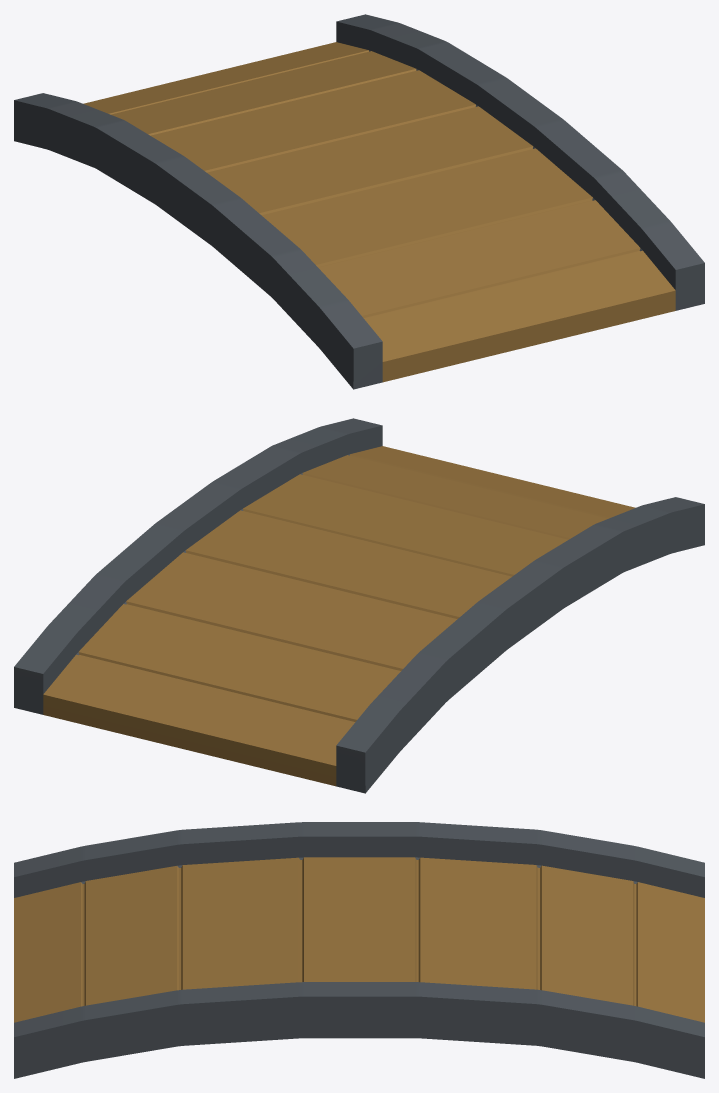
Rendered from Bridge_Curved.fbx.
3 renders of one model, top to bottom at view 1: azimuth 30°, elevation 25°; view 2: azimuth 150°, elevation 25°; view 3: azimuth 270°, elevation 25°, orthographic.
Parts seen in each view (by area): view 1: pCube1; view 2: pCube1; view 3: pCube1.
Boxes of the visible parts, <box> form: pCube1: <box>14,14,704,389</box>; pCube1: <box>14,418,704,793</box>; pCube1: <box>14,822,704,1078</box>.
Bounding box in the file's own units: 361 × 79.46 × 603.
